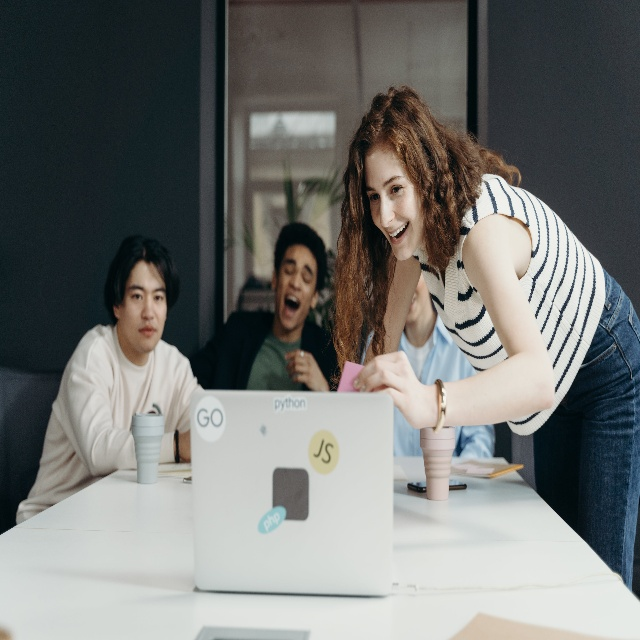Sin_guantes: (349, 350, 424, 426)
